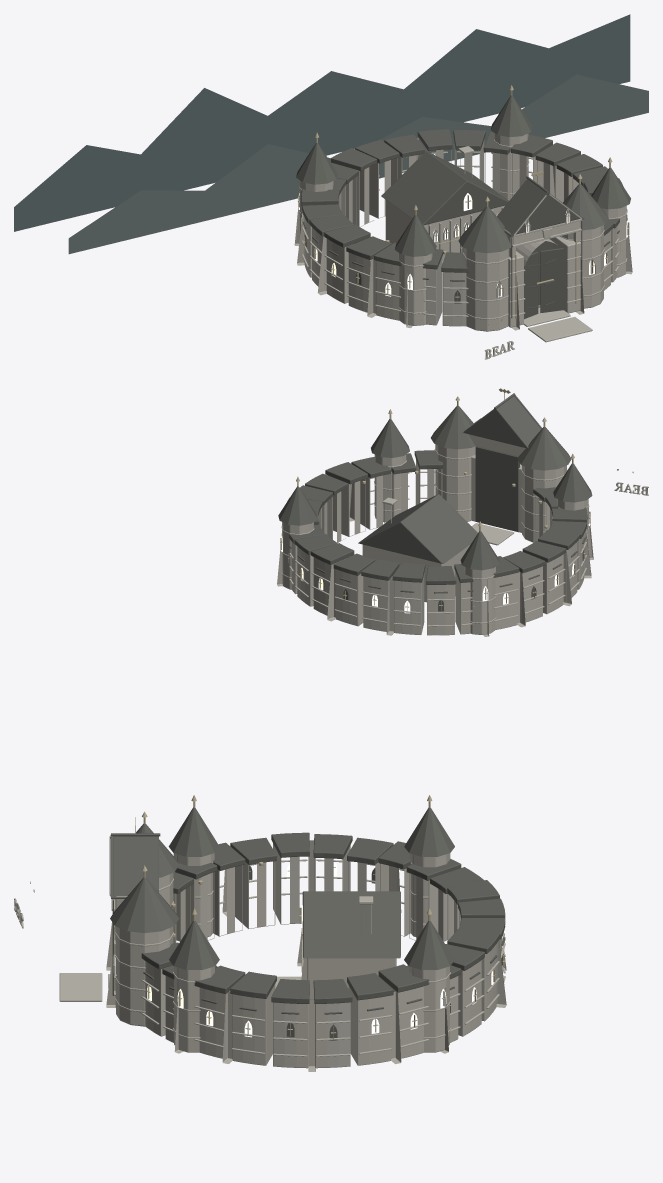
File: first-light-citadel.mobile.glb
The picture shows the model from 3 angles, top to bottom: view 1: azimuth 30°, elevation 25°; view 2: azimuth 150°, elevation 25°; view 3: azimuth 270°, elevation 25°; orthographic projection. The views are drawn at different scales.
Visible parts, largest first — view 1: VS01_Threshold_ROOT, Horizon massif, Foreground hill; view 2: VS01_Threshold_ROOT; view 3: VS01_Threshold_ROOT.
Part boxes in pixels (bbox=[...]): VS01_Threshold_ROOT: bbox=[294, 85, 632, 359]; Horizon massif: bbox=[14, 14, 630, 231]; Foreground hill: bbox=[68, 74, 648, 254]; VS01_Threshold_ROOT: bbox=[277, 388, 648, 636]; VS01_Threshold_ROOT: bbox=[14, 795, 506, 1071].
Size of what is drawn, in the model's own units: 68 by 15.03 by 50.87.
